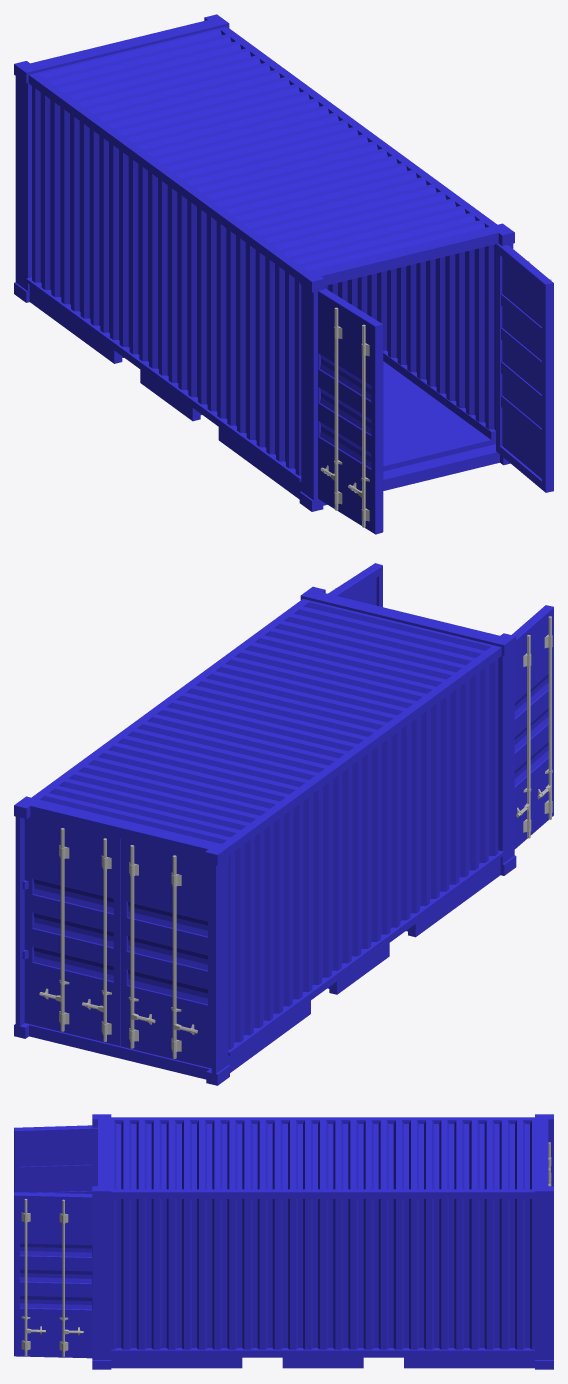
The model's file is Container_opened_v3.fbx.
3 renders of one model, top to bottom at view 1: azimuth 30°, elevation 25°; view 2: azimuth 150°, elevation 25°; view 3: azimuth 270°, elevation 25°, orthographic. The views are drawn at different scales.
Parts seen in each view (by area): view 1: Container_opened.001, Door.001, Door.002; view 2: Container_opened.001, Door.004, Door.003, Door.001, Door.002; view 3: Container_opened.001, Door.002, Door.001.
Part boxes in pixels (x1,y1,x2,y2): Container_opened.001: (14,14,514,511); Door.001: (318,288,383,534); Door.002: (496,243,553,492); Container_opened.001: (14,586,516,1085); Door.004: (24,816,120,1046); Door.003: (120,839,211,1068); Door.001: (512,605,553,849); Door.002: (328,563,382,606); Container_opened.001: (92,1114,553,1369); Door.002: (14,1192,92,1358); Door.001: (14,1125,97,1193).
Size of the model in its own units: 240 by 260 by 714.
